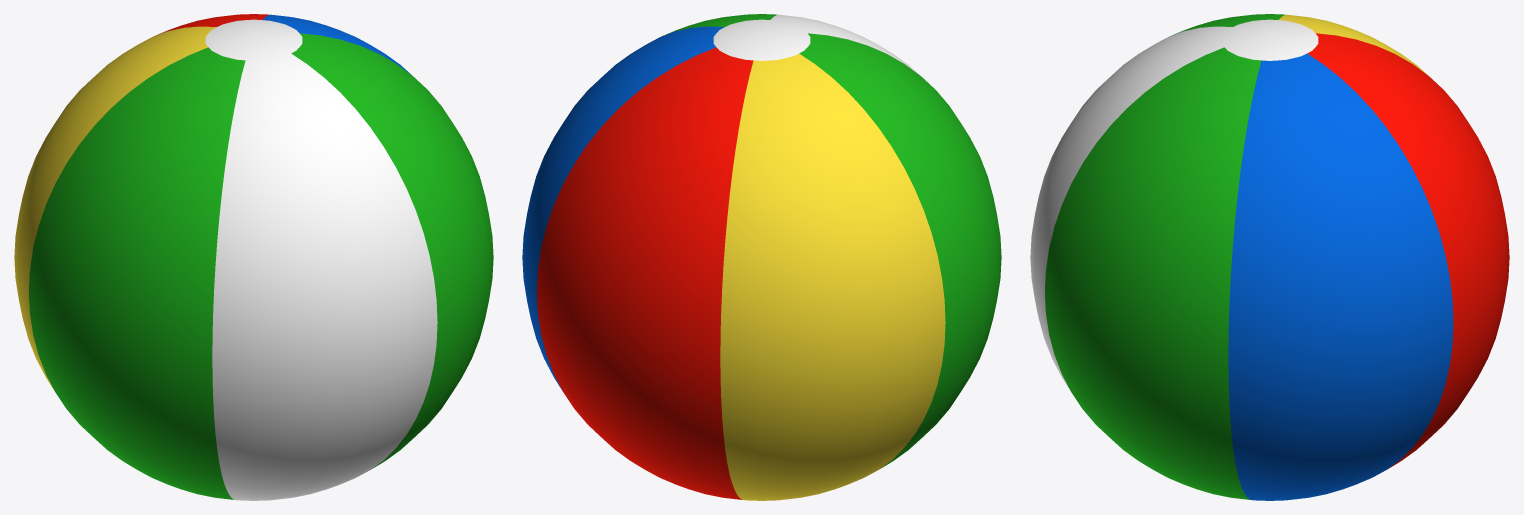
Rendered from beachball_1.fbx.
3 renders of one model, left to right at view 1: azimuth 30°, elevation 25°; view 2: azimuth 150°, elevation 25°; view 3: azimuth 270°, elevation 25°, orthographic.
Visible parts, largest first — view 1: Sphere; view 2: Sphere; view 3: Sphere.
Part boxes in pixels (x1,y1,x2,y2): Sphere: [14, 14, 493, 500]; Sphere: [522, 14, 1001, 500]; Sphere: [1030, 14, 1509, 500].
Size of the model in its own units: 68.15 by 69.73 by 68.15.
